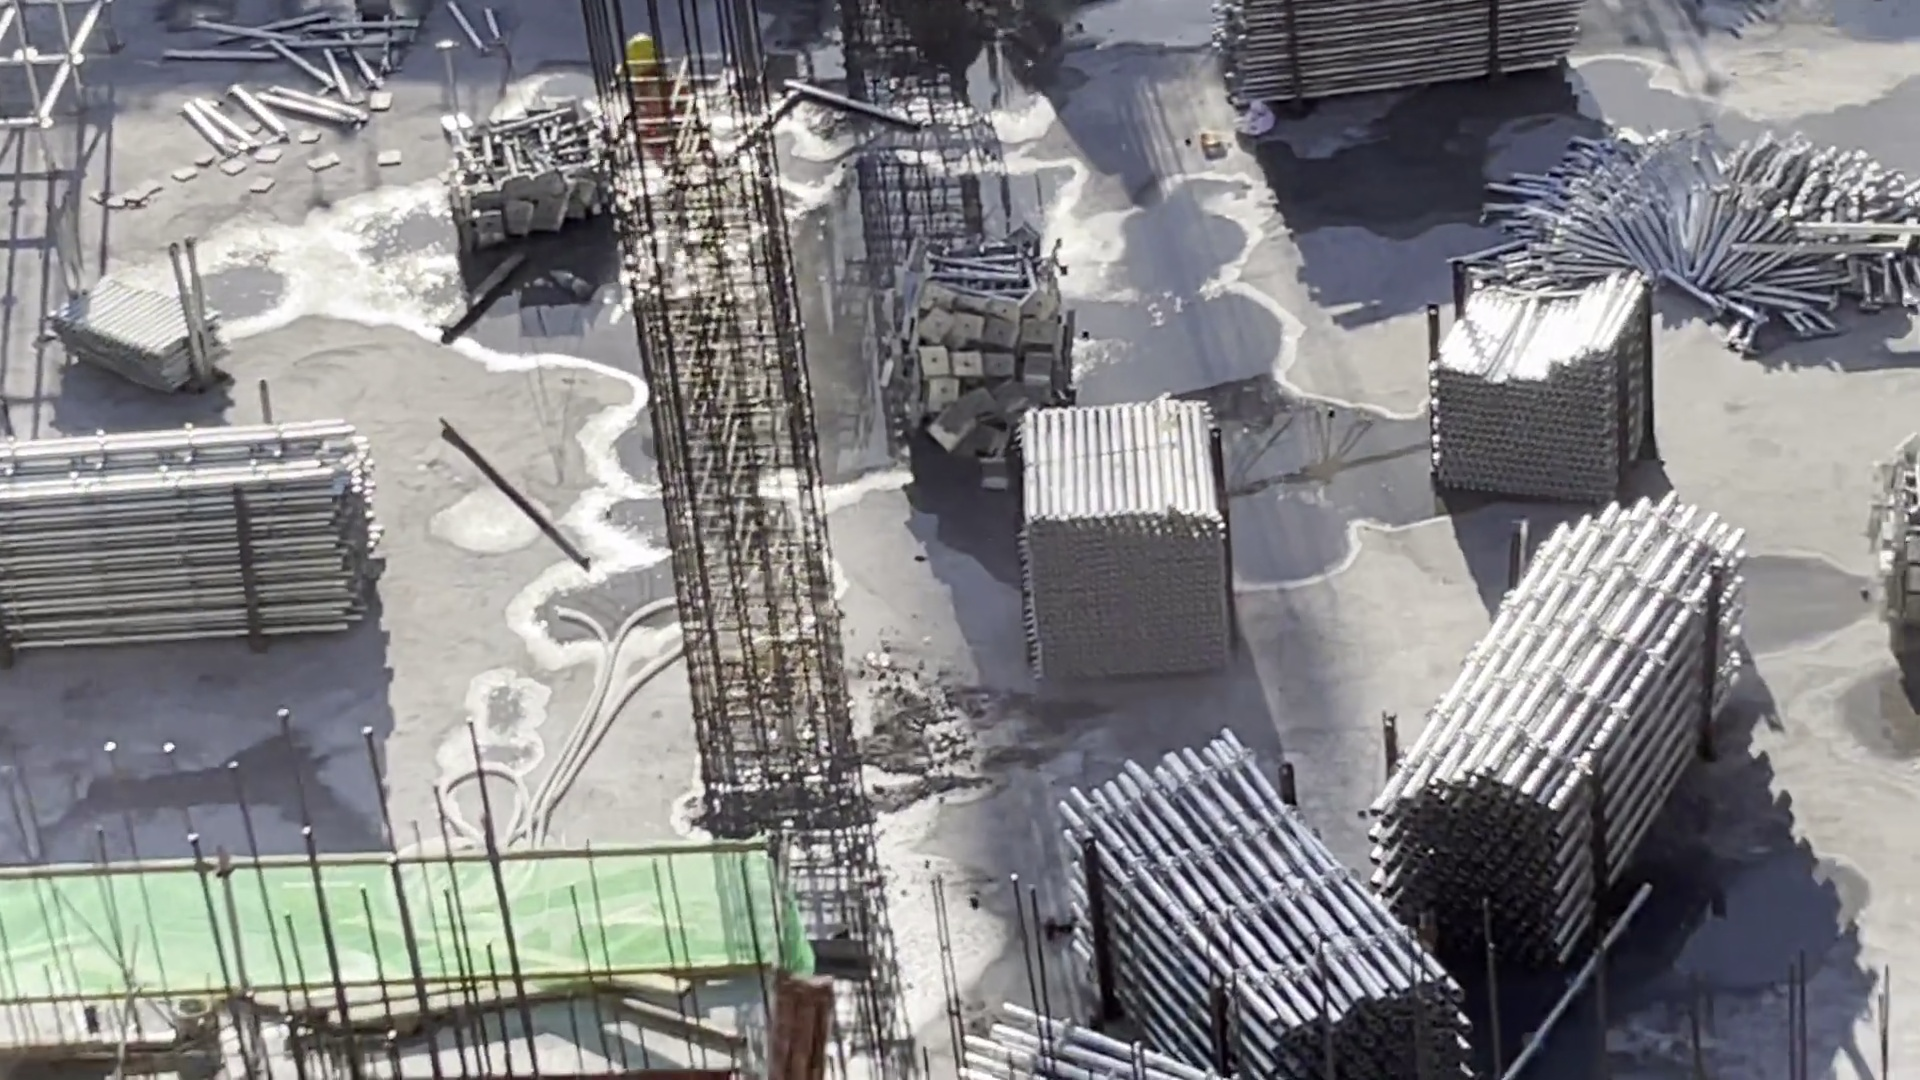helmet: (611, 32, 663, 76)
person: (589, 34, 723, 213)
scaffold: (1364, 508, 1769, 968), (1052, 731, 1530, 1074), (1502, 118, 1920, 329), (1, 407, 364, 650), (1004, 394, 1242, 680), (1430, 266, 1649, 488), (873, 242, 1072, 449), (1214, 1, 1581, 102), (435, 100, 605, 233), (58, 254, 218, 385)
vest: (617, 78, 679, 148)
